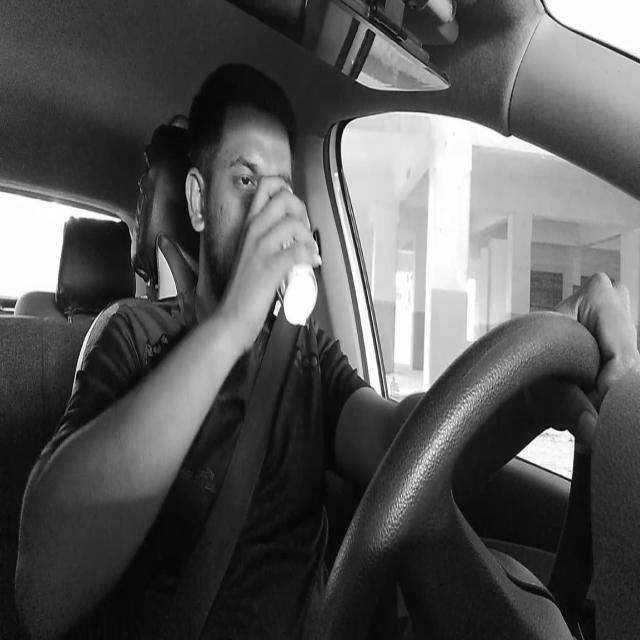Drinking: (264, 196, 321, 326)
Seatbelt: (237, 319, 298, 528)
